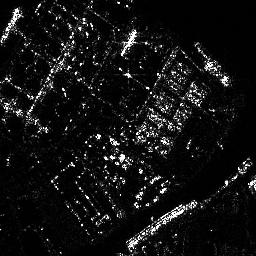ship: (194, 43, 231, 87)
